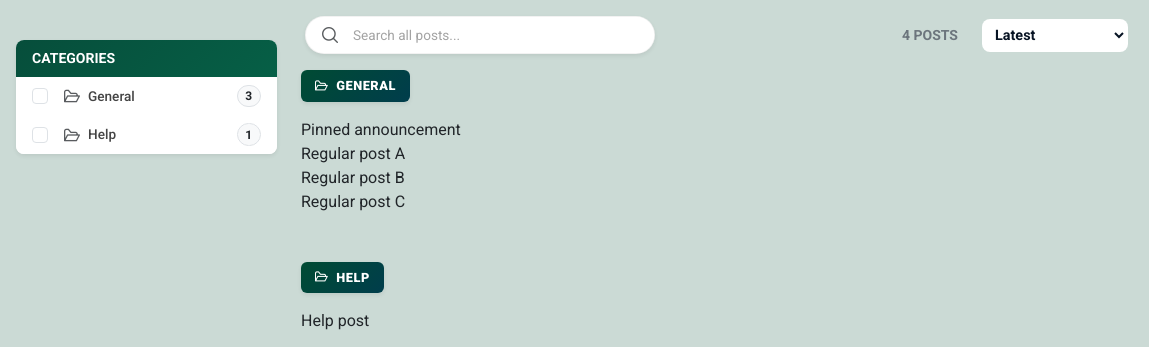
ForumHome.vue — homepage › filters to only selected categories when a checkbox is checked
# Check the "Help" category (second checkbox)
Click the checkbox labelled "Help 1".
click(40, 134)  # box [32, 126, 48, 142]
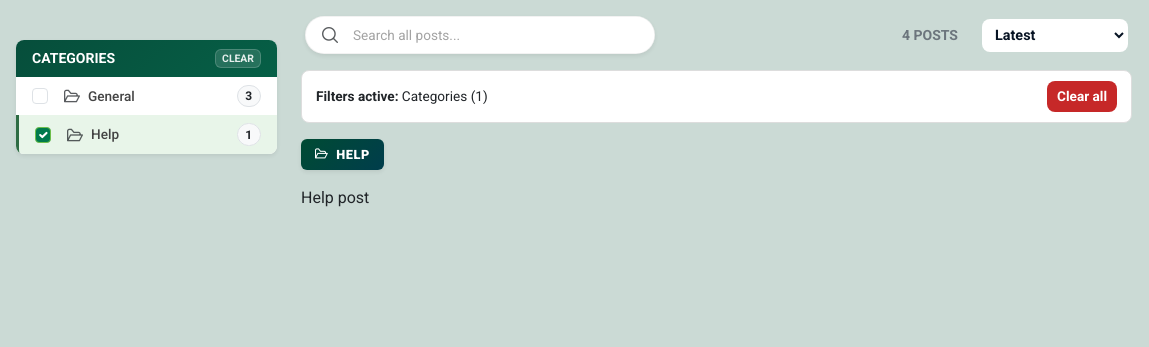
Check: the text "Help" is shown, box [91, 124, 119, 145]
Check: the number of elements with class "category-group" is 1, box [301, 139, 384, 207]
